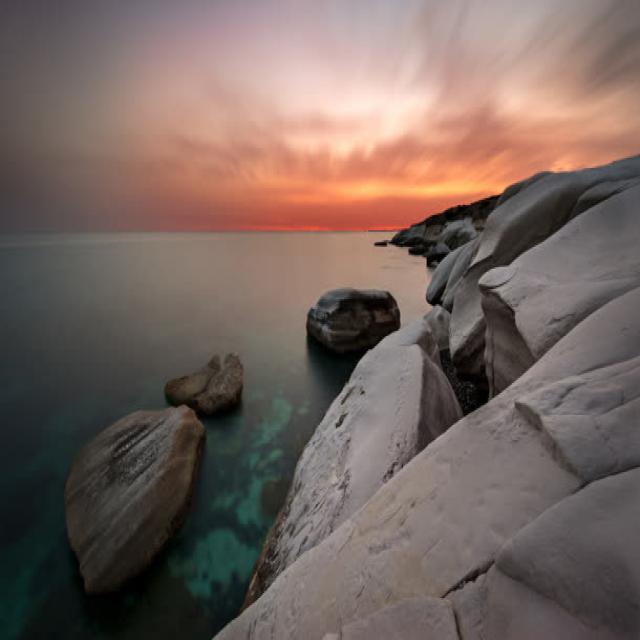reef: (63, 346, 256, 585)
